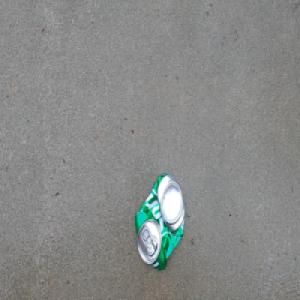SodaCan: (133, 170, 186, 272)
